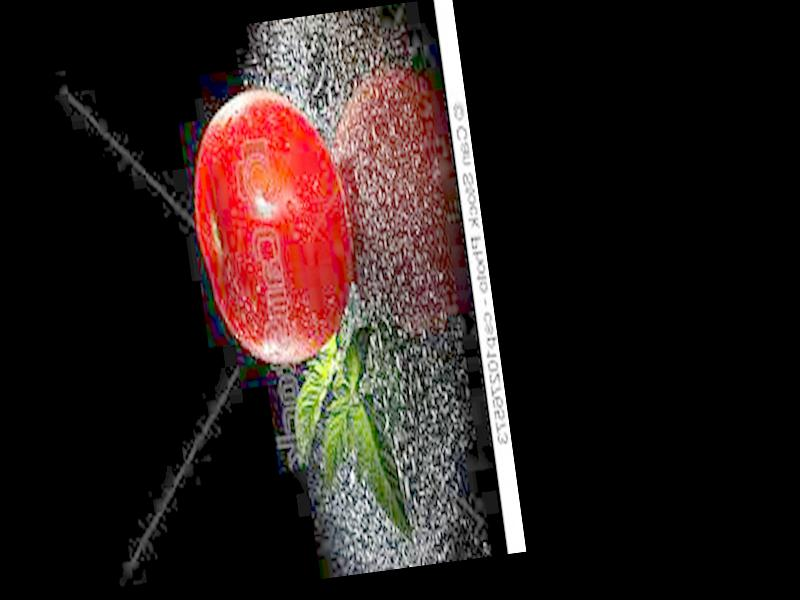Tomato: (179, 81, 365, 372)
